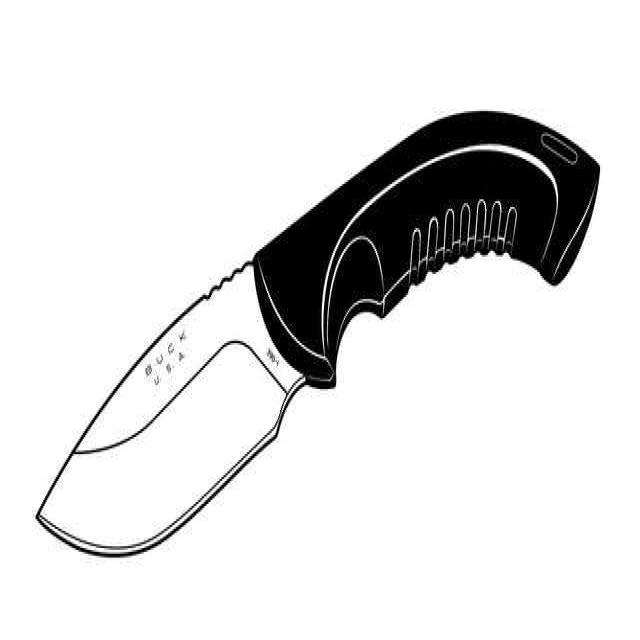Knife: (20, 94, 606, 562)
